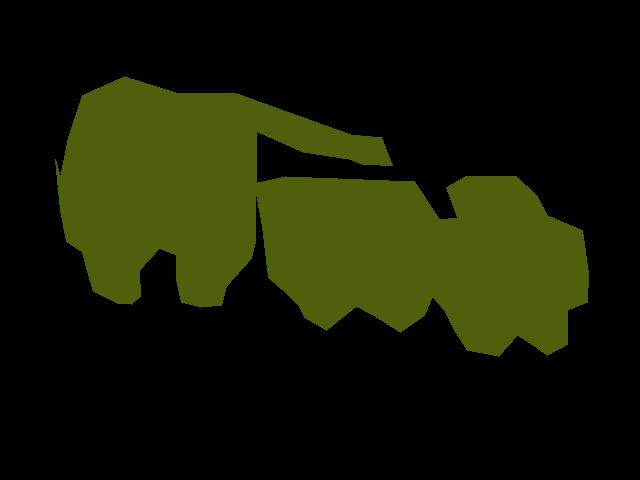Train: (55, 76, 589, 356)
